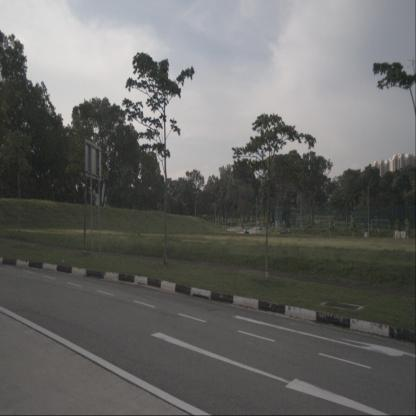vehicle-car: (277, 228, 292, 238), (244, 227, 249, 234)
